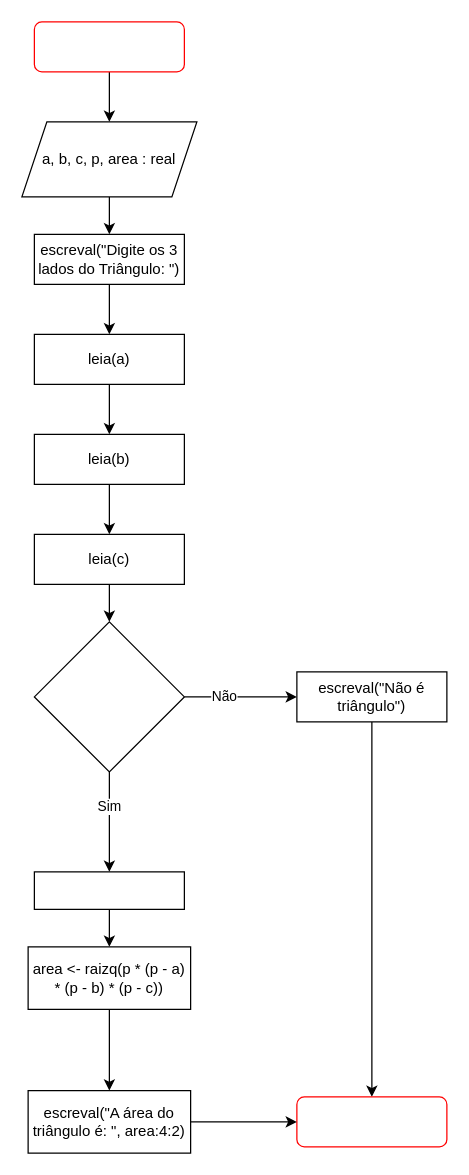
Some shapes in this 469 by 1175 pixel diagram are drawn without their labels. Each missing label, with the centre of its shape:
"(a < (b + c)) e (b < (a + c)) e (c < (a + b)) ?" goes at (x=108, y=696).
"Fim" goes at (x=371, y=1121).
"Inicio" goes at (x=108, y=46).
"p <- (a + b + c) / 2" goes at (x=108, y=890).
